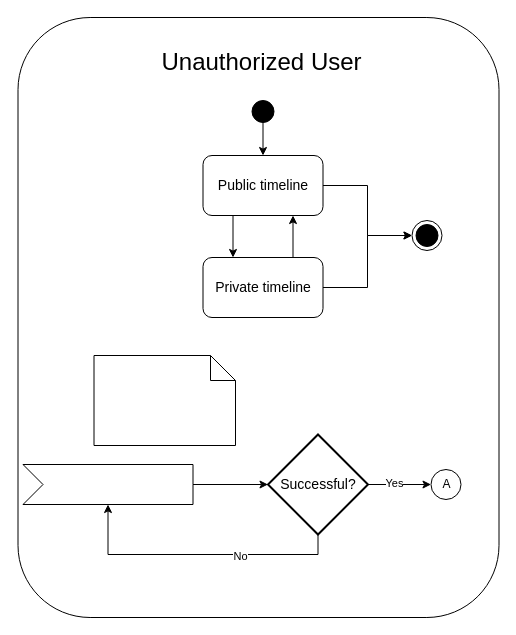
Image size: 516x635. Some labels were removed from this diagram. The shapes that lost their labels are listed below. From the top down, each one's box as (x1, y1, x2, y2) in pixels, then its label:
(93, 354, 236, 446): User can log in at any time when not currently logged in
(22, 464, 193, 504): Log in
